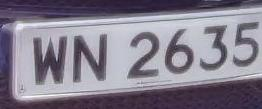2: (121, 27, 165, 82)
3: (195, 20, 229, 77)
5: (229, 15, 262, 70)
6: (160, 24, 199, 79)
N: (71, 29, 113, 91)
W: (27, 30, 71, 92)
